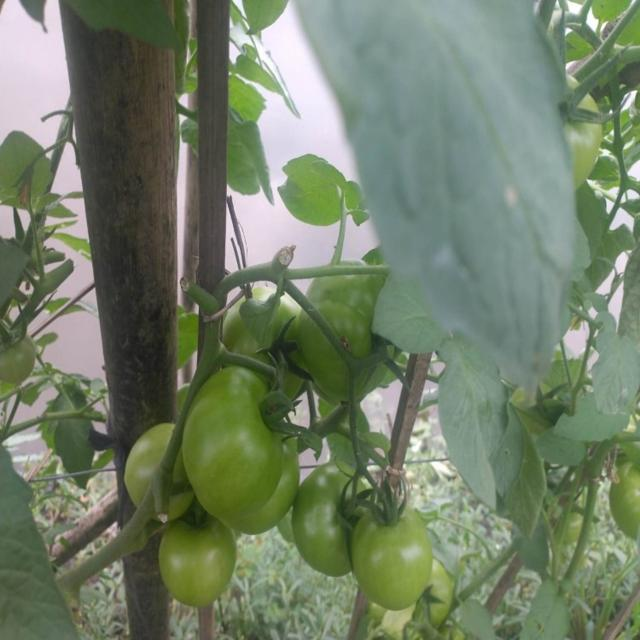tomato: (187, 377, 286, 536), (352, 501, 433, 613), (314, 269, 380, 393), (298, 462, 368, 570), (163, 529, 238, 610), (562, 80, 608, 184), (253, 309, 306, 399), (126, 431, 168, 497), (1, 332, 34, 389), (615, 471, 640, 542), (527, 391, 553, 427), (564, 509, 587, 540)
